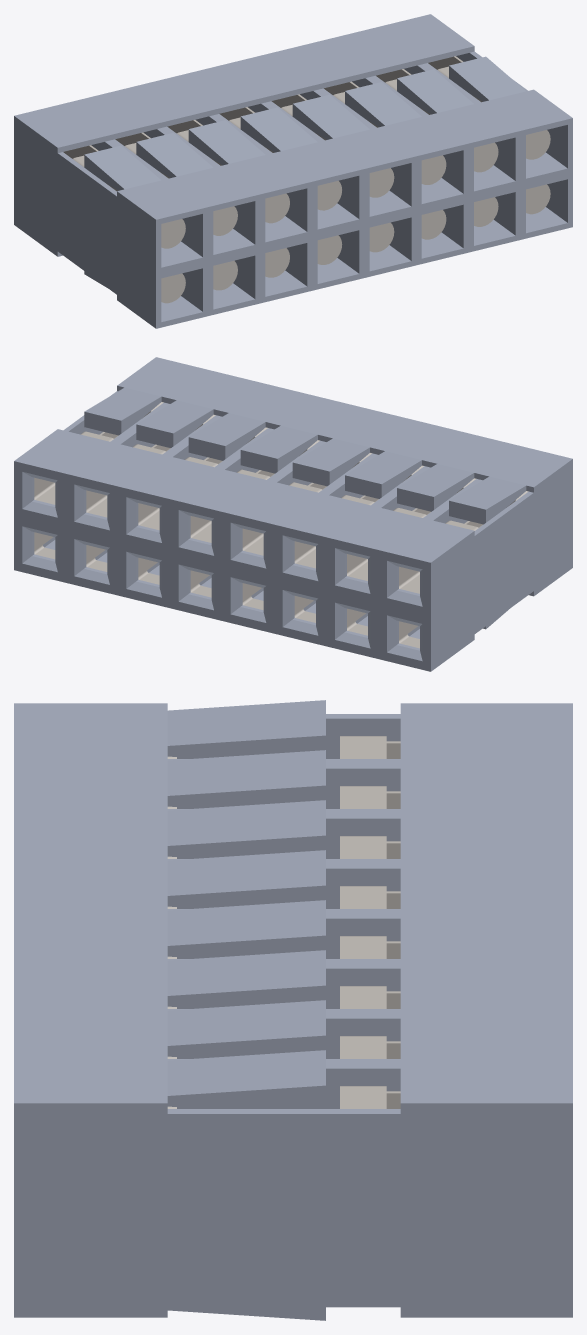
The picture shows the model from 3 angles, top to bottom: view 1: azimuth 30°, elevation 25°; view 2: azimuth 150°, elevation 25°; view 3: azimuth 270°, elevation 25°; orthographic projection. The views are drawn at different scales.
Parts seen in each view (by area): view 1: DS1071-2x8; view 2: DS1071-2x8; view 3: DS1071-2x8.
Part boxes in pixels (left/top/right/bottom): DS1071-2x8: left=14, top=14, right=572, bottom=328; DS1071-2x8: left=14, top=357, right=572, bottom=671; DS1071-2x8: left=14, top=700, right=572, bottom=1320.
Size of the model in its own units: 0.0136 by 0.00374 by 0.00805.
